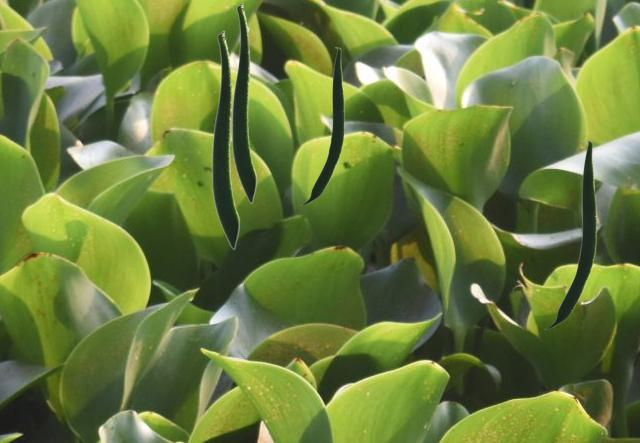french_bean: (544, 140, 595, 328), (300, 47, 343, 204), (211, 30, 239, 249), (231, 2, 256, 203)
